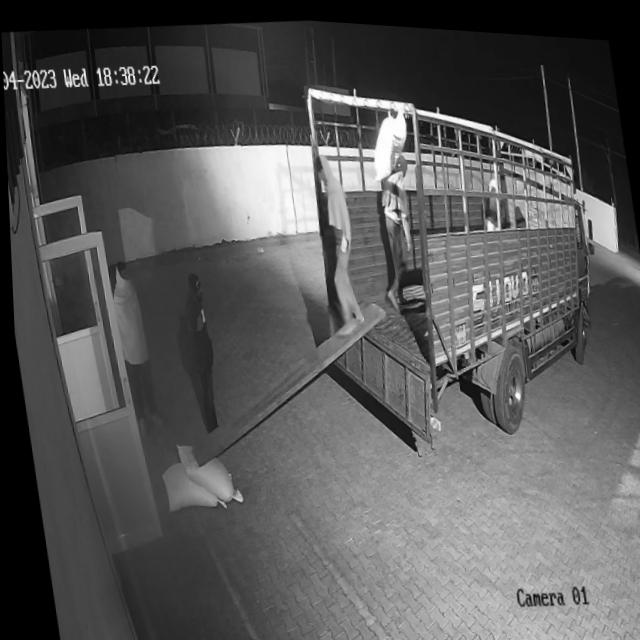sack: (170, 434, 239, 505), (154, 453, 222, 514), (363, 102, 412, 177)
